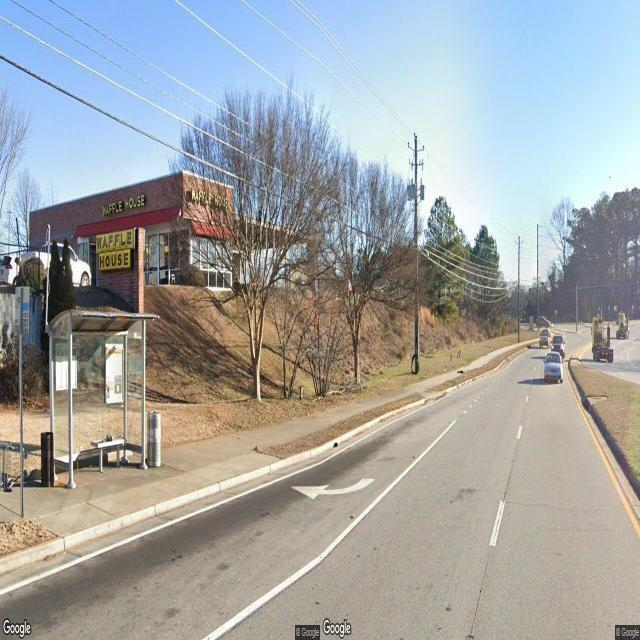seating: (91, 436, 129, 472)
shelter: (47, 310, 161, 488)
trash_can: (147, 410, 161, 468), (40, 432, 54, 488)
